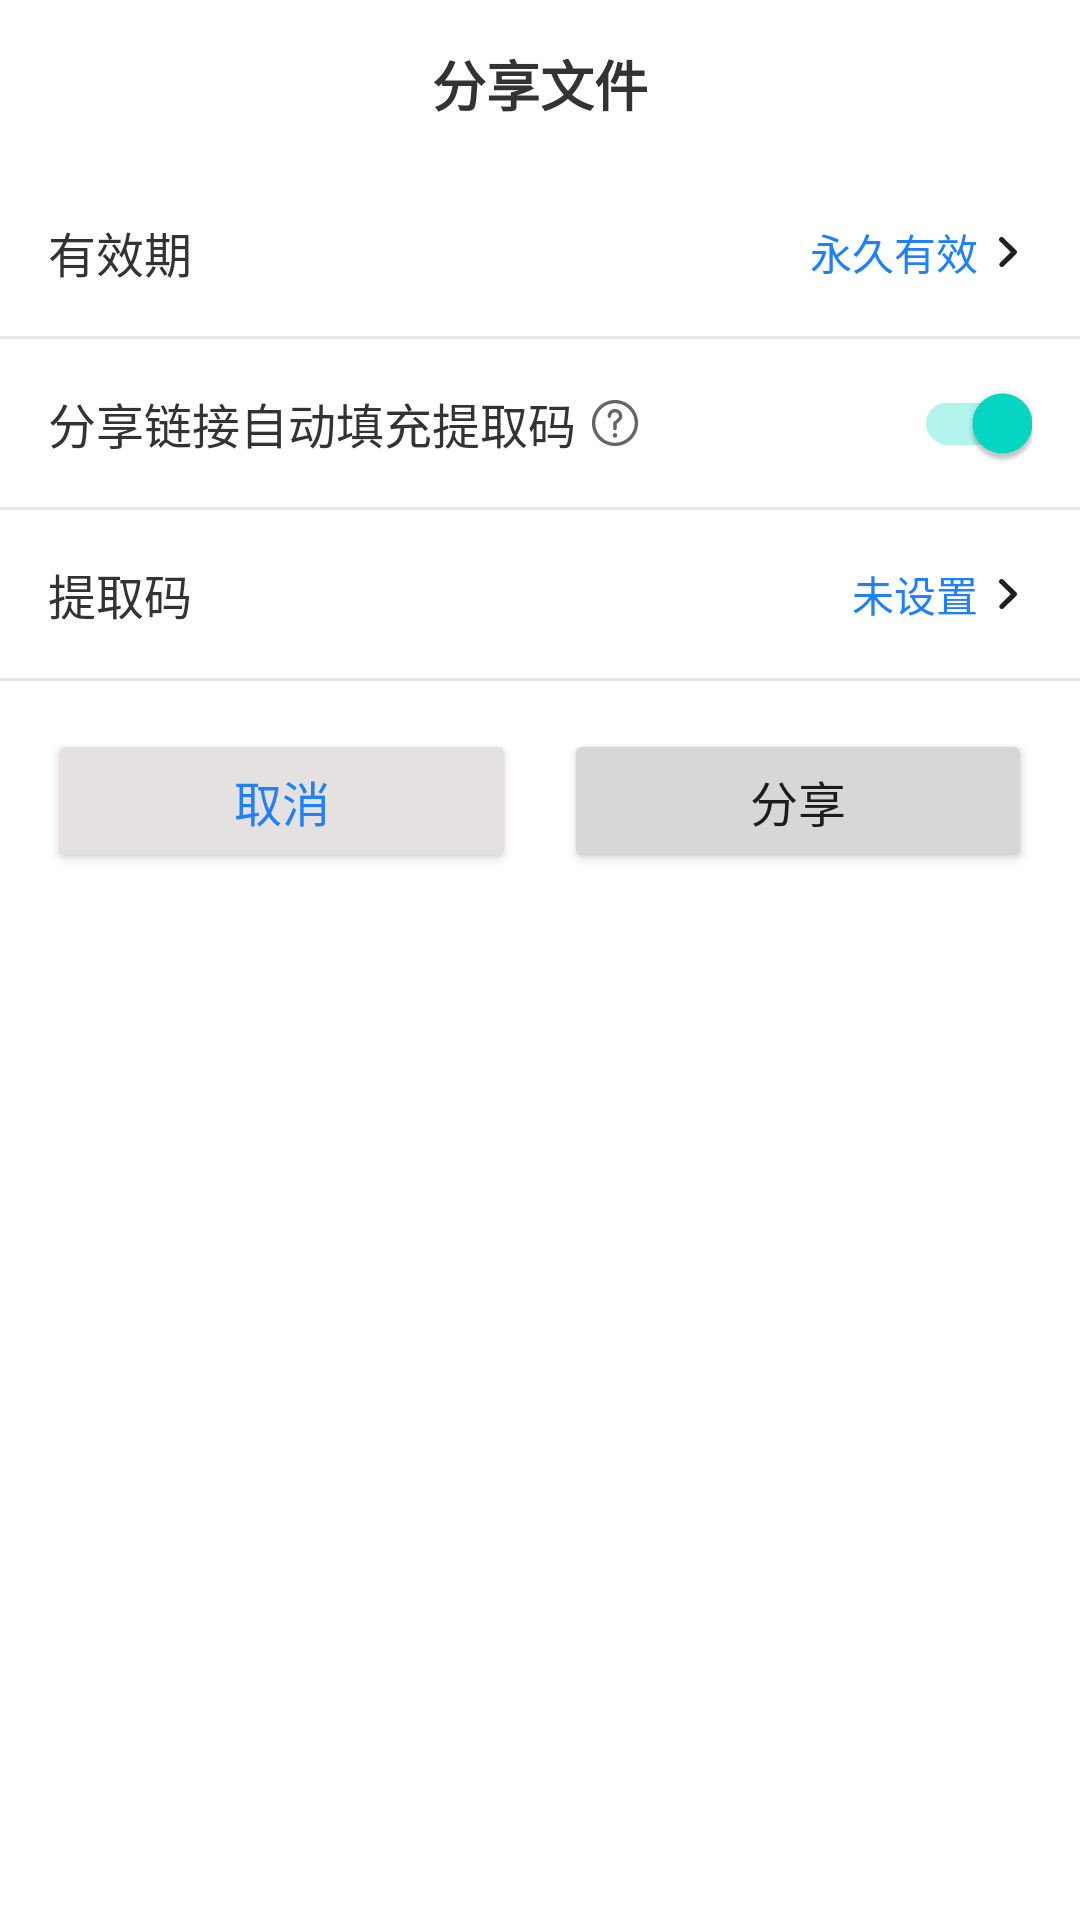

Named icons in this screenshot (1080*1920) and their bounding boxes, (x1, y1, x2, y2):
right: (999, 237, 1017, 267), (999, 579, 1017, 609)
帮助: (592, 400, 638, 446)
